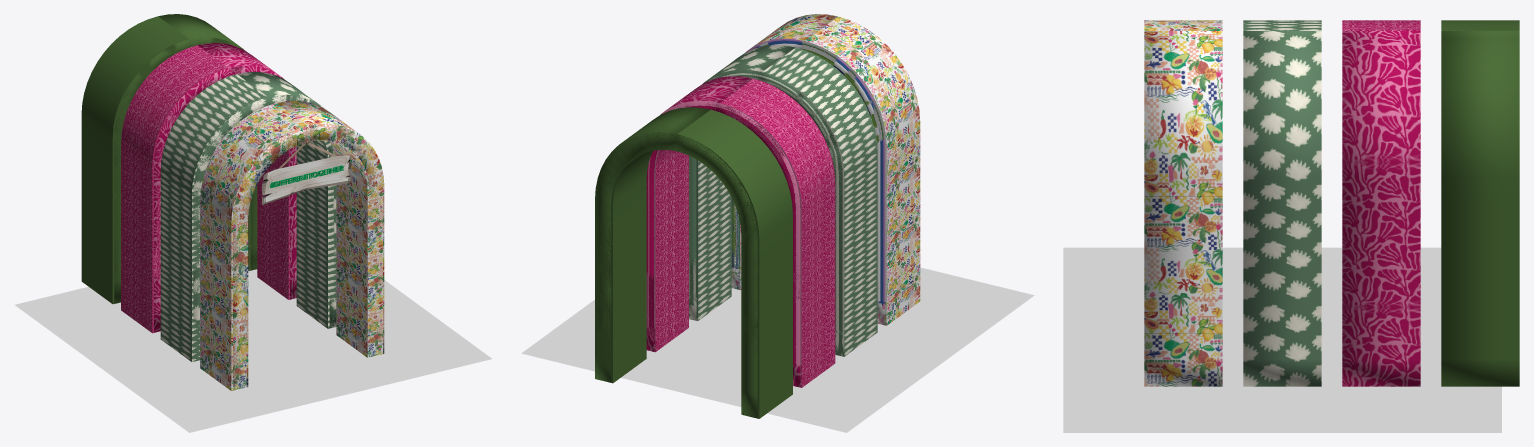
File: UCB-Tunnel.gltf
3 renders of one model, left to right at view 1: azimuth 30°, elevation 25°; view 2: azimuth 150°, elevation 25°; view 3: azimuth 270°, elevation 25°, orthographic. The views are drawn at different scales.
Visible parts, largest first — view 1: Plane.010, Cube.001, Cube.006, Cube.004, Cube.005, Cube, Cube.002, Cube.003, Cube.007, Plane.002, Plane.001; view 2: Plane.010, Cube.005, Cube.004, Cube.006, Cube.001, Cube.003, Cube.002, Cube, Cube.007; view 3: Plane.010, Cube, Cube.002, Cube.003, Cube.007, Cube.001, Cube.004, Cube.005, Cube.006.
Boxes of the visible parts, box(x1,y1,x2,y2) form: Plane.010: box(14, 269, 491, 432); Cube.001: box(200, 103, 382, 390); Cube.006: box(160, 74, 336, 361); Cube.004: box(121, 45, 295, 333); Cube.005: box(81, 16, 257, 304); Cube: box(233, 100, 384, 390); Cube.002: box(154, 43, 296, 332); Cube.003: box(114, 14, 257, 303); Cube.007: box(193, 72, 336, 328); Plane.002: box(263, 155, 351, 204); Plane.001: box(262, 164, 350, 204); Plane.010: box(521, 267, 1034, 432); Cube.005: box(596, 109, 792, 418); Cube.004: box(646, 78, 835, 387); Cube.006: box(689, 47, 877, 356); Cube.001: box(731, 16, 920, 325); Cube.003: box(595, 107, 757, 418); Cube.002: box(646, 76, 800, 387); Cube: box(731, 14, 884, 325); Cube.007: box(689, 45, 842, 334); Plane.010: box(1063, 247, 1501, 432); Cube: box(1144, 31, 1222, 386); Cube.002: box(1342, 31, 1420, 386); Cube.003: box(1441, 31, 1519, 386); Cube.007: box(1243, 31, 1321, 386); Cube.001: box(1144, 20, 1222, 30); Cube.004: box(1342, 20, 1420, 30); Cube.005: box(1441, 20, 1519, 30); Cube.006: box(1243, 20, 1321, 30).
Size of the model in its own units: 2 by 1.55 by 2.08.
14 materials, 12 textured.
